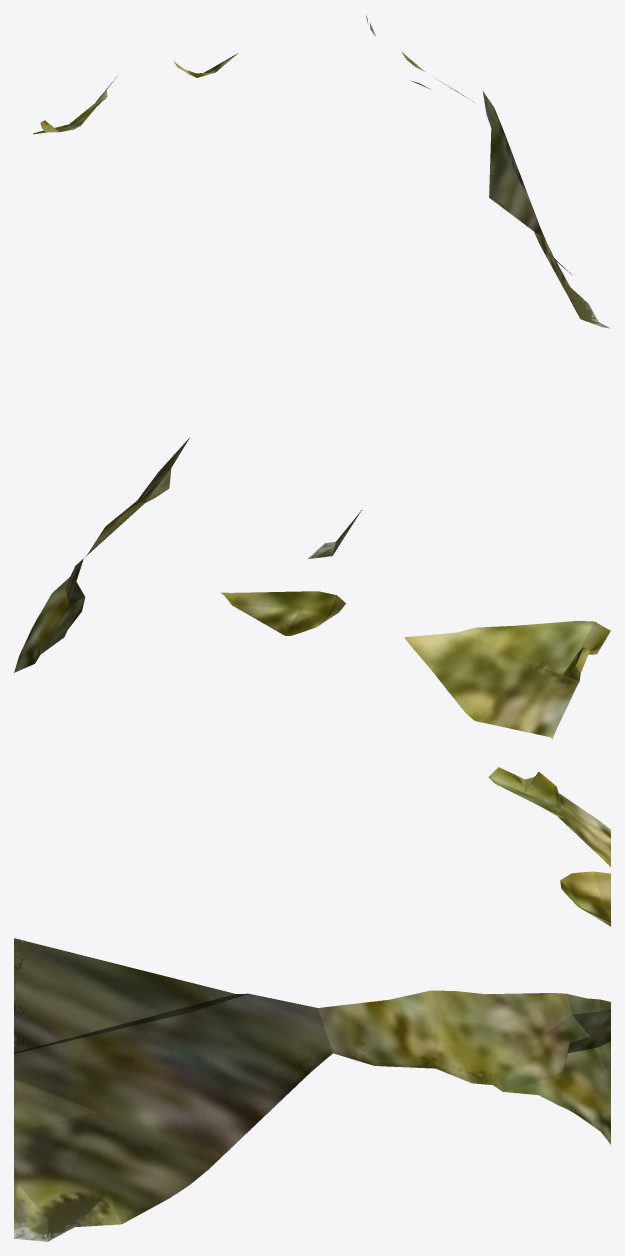
3 views of the same model, one above another, from view 1: azimuth 30°, elevation 25°; view 2: azimuth 150°, elevation 25°; view 3: azimuth 270°, elevation 25° (orthographic). The views are drawn at different scales.
Size of the model in its own units: 1.67 by 0.6889 by 1.67.
1 material, 1 textured.
